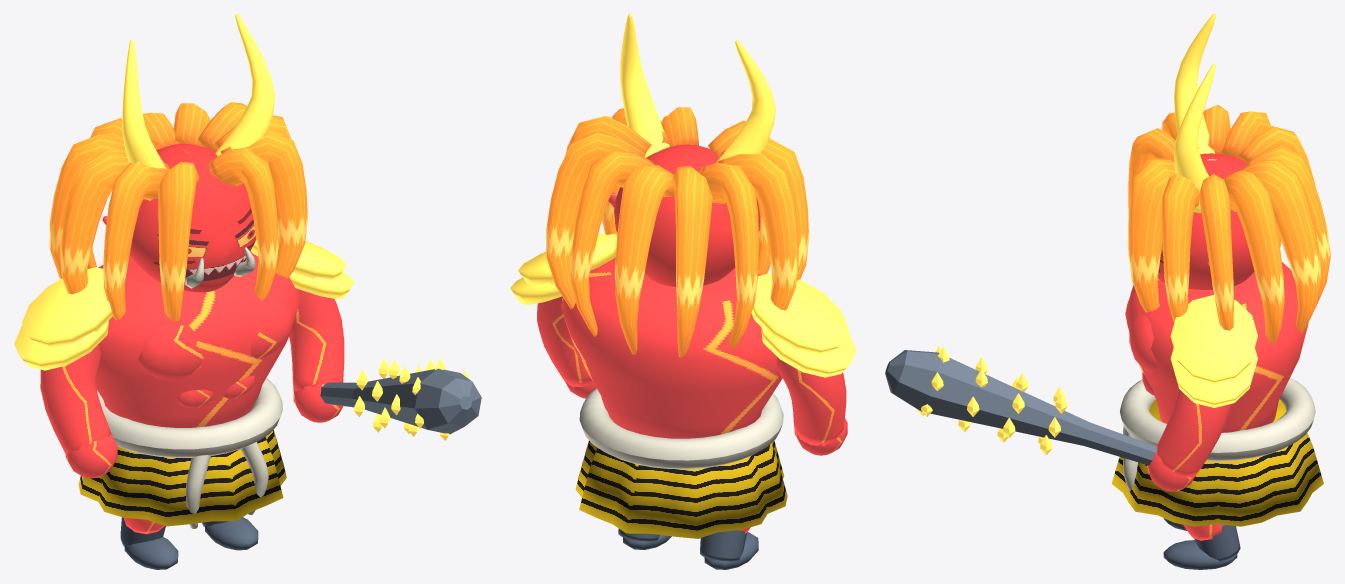
Rendered from enemy_akaoni_boss.glb.
The picture shows the model from 3 angles, left to right: view 1: azimuth 30°, elevation 25°; view 2: azimuth 150°, elevation 25°; view 3: azimuth 270°, elevation 25°; orthographic projection. The views are drawn at different scales.
Parts seen in each view (by area): view 1: OniBodyMesh, OniArmMesh_1, OniArmMesh_0; view 2: OniBodyMesh, OniArmMesh_0, OniArmMesh_1; view 3: OniBodyMesh, OniArmMesh_1.
Part boxes in pixels (left/top/right/bottom): OniBodyMesh: left=49, top=14, right=307, bottom=569; OniArmMesh_1: left=251, top=239, right=481, bottom=440; OniArmMesh_0: left=14, top=267, right=117, bottom=478; OniBodyMesh: left=546, top=14, right=809, bottom=569; OniArmMesh_0: left=751, top=273, right=856, bottom=455; OniArmMesh_1: left=510, top=233, right=616, bottom=398; OniBodyMesh: left=1111, top=14, right=1330, bottom=569; OniArmMesh_1: left=885, top=295, right=1257, bottom=491.
Bounding box in the file's own units: 2.14 × 3.23 × 2.57.
8 materials, 4 textured.
